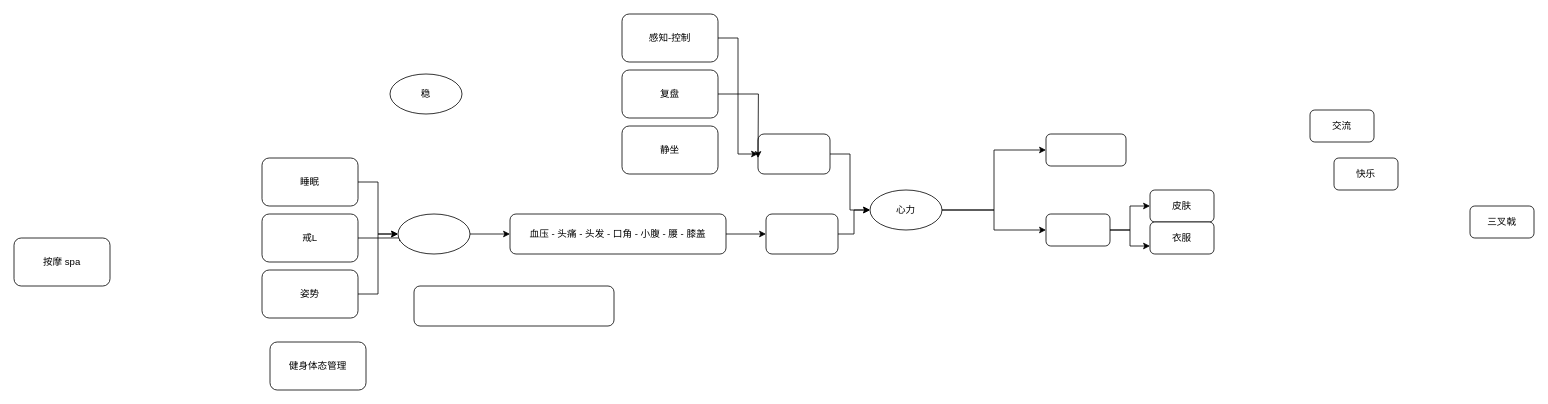
The diagram is 1548 pixels wide and 404 high, and some of its shapes have lost their labels. Each missing label, with the centre of its shape:
"不慌 - 不怕 - 不急" belongs at point (1085, 149).
"再不改变生活方式，血压会把自己多年来建立的都毁掉" belongs at point (513, 305).
"形象" belongs at point (1077, 229).
"微习惯" belongs at point (433, 233).
"心理" belongs at point (793, 153).
"身体" belongs at point (801, 233).
